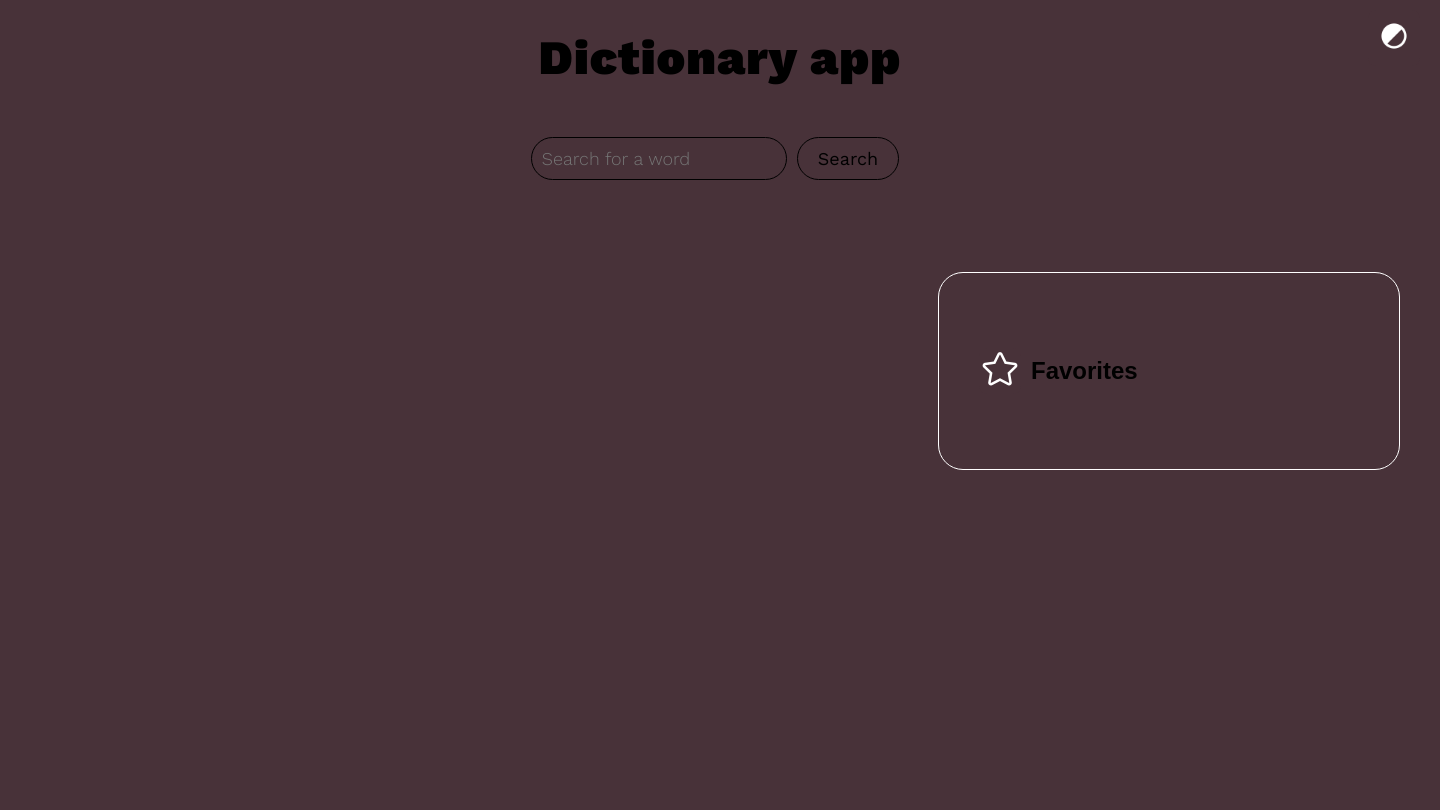
Test case: audiofiles availability › should render audio button when word is searched when audio is available
// simulate typing word into input field
In the field: [659, 159] box [531,137,787,180], type "kitten"
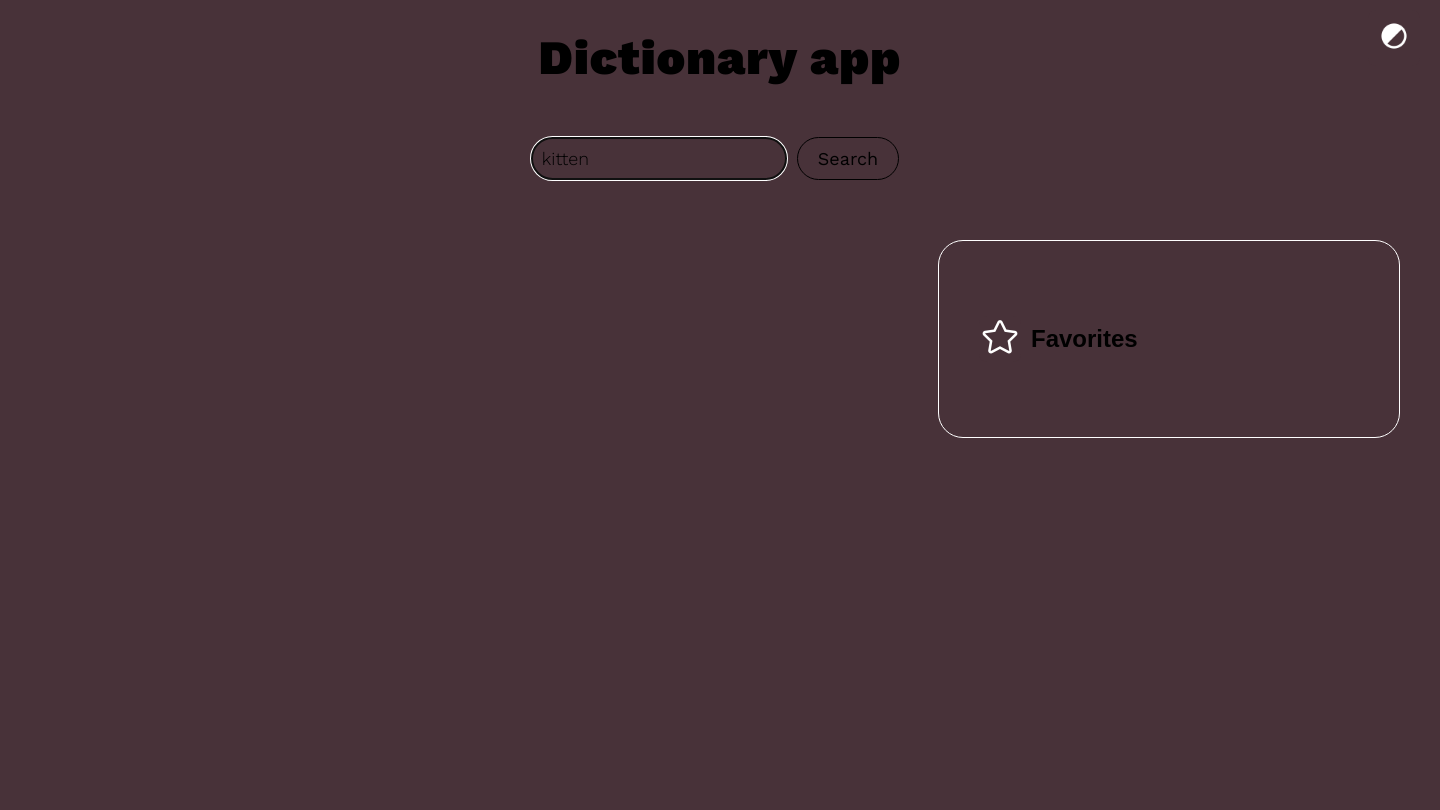
// find the search button and click it
Click the button "Search": [848, 159] box [797,137,899,180]
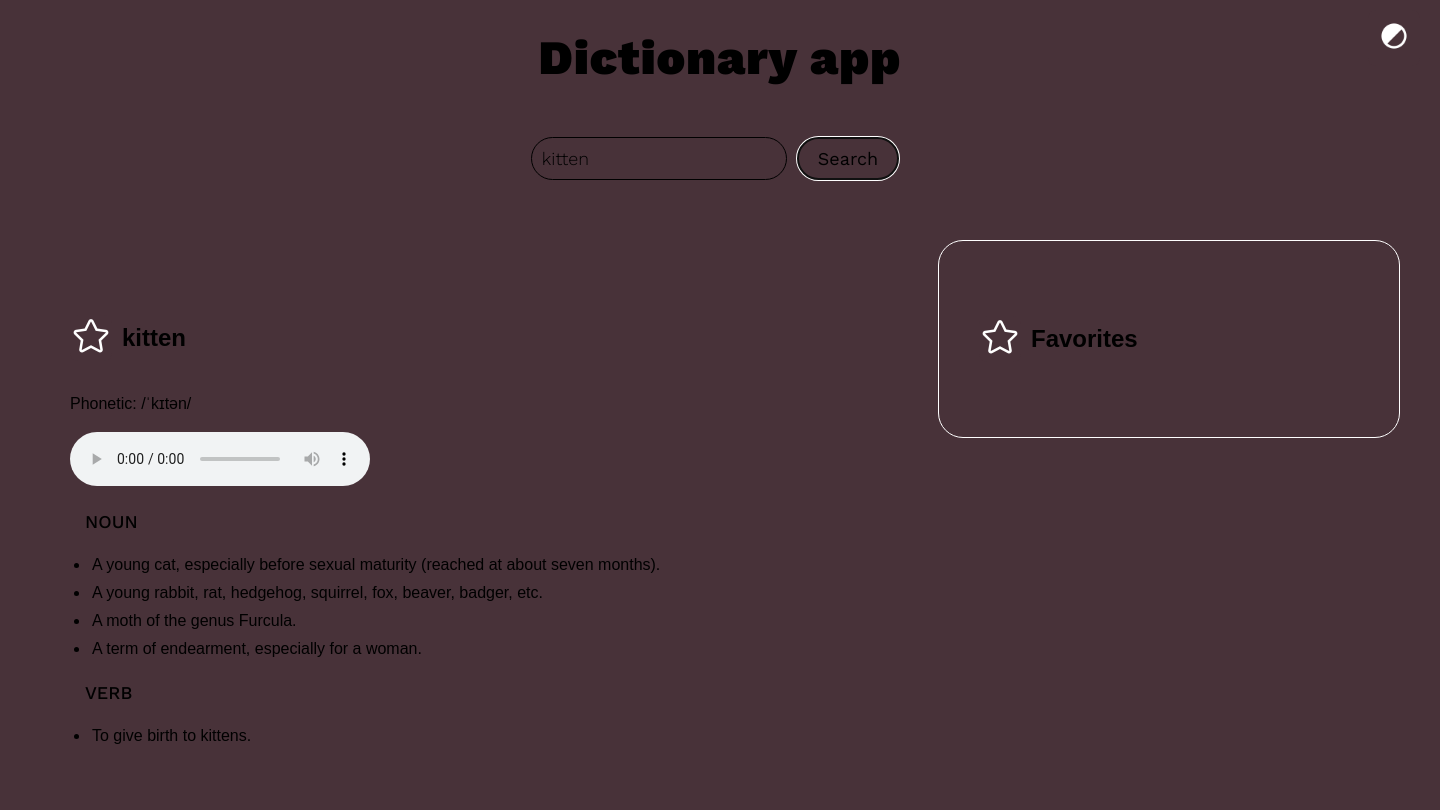
Expected: the heading "kitten" is shown, [122,320,186,356]
Expected: the text "/ˈkɪtən/" is shown, [141,395,191,412]
